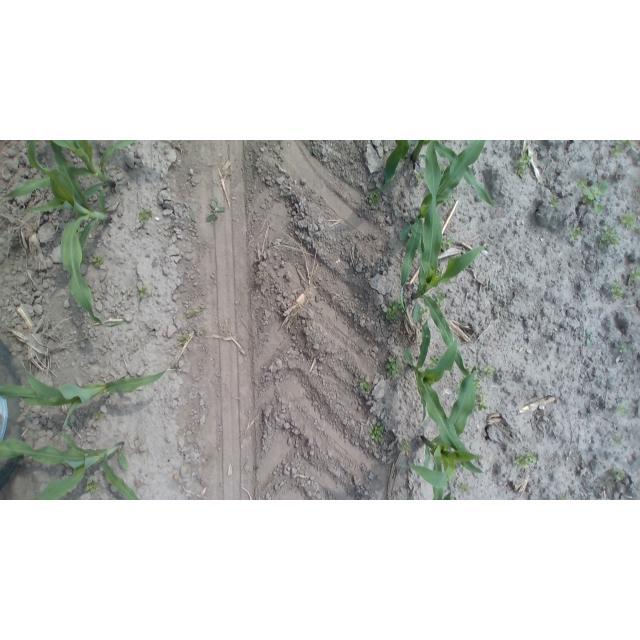Maize: (26, 141, 128, 328), (413, 141, 487, 380), (398, 141, 496, 312), (402, 322, 484, 474), (0, 358, 172, 429), (405, 362, 480, 500), (0, 432, 142, 501), (4, 141, 139, 213), (377, 143, 500, 210), (407, 448, 456, 501), (375, 141, 419, 197)
Weeds: (581, 179, 610, 215), (514, 152, 535, 180), (206, 195, 227, 223), (599, 223, 621, 249), (367, 421, 386, 446), (386, 298, 406, 320), (385, 358, 404, 379), (515, 450, 538, 467), (610, 141, 635, 156), (619, 209, 637, 229), (138, 205, 156, 224), (185, 304, 207, 319), (568, 223, 583, 244), (83, 477, 100, 495), (609, 282, 626, 300), (89, 252, 108, 268), (368, 188, 382, 208), (135, 283, 152, 299), (173, 331, 191, 345), (476, 390, 488, 410), (441, 235, 456, 251), (433, 290, 447, 306), (399, 438, 411, 456), (584, 327, 595, 346), (482, 362, 495, 378), (359, 378, 372, 393), (458, 481, 471, 495), (610, 436, 624, 449), (548, 195, 561, 208), (428, 354, 441, 367), (414, 170, 426, 184), (630, 266, 640, 282), (612, 468, 625, 480), (615, 403, 627, 416), (187, 210, 198, 222), (578, 178, 589, 189), (92, 411, 104, 421), (435, 266, 444, 278), (475, 377, 482, 392), (197, 327, 207, 337), (456, 379, 463, 393), (439, 166, 446, 178), (620, 345, 629, 354), (560, 493, 568, 500), (77, 226, 83, 235), (420, 307, 428, 313), (466, 365, 474, 371), (418, 317, 427, 322), (636, 227, 640, 233)
